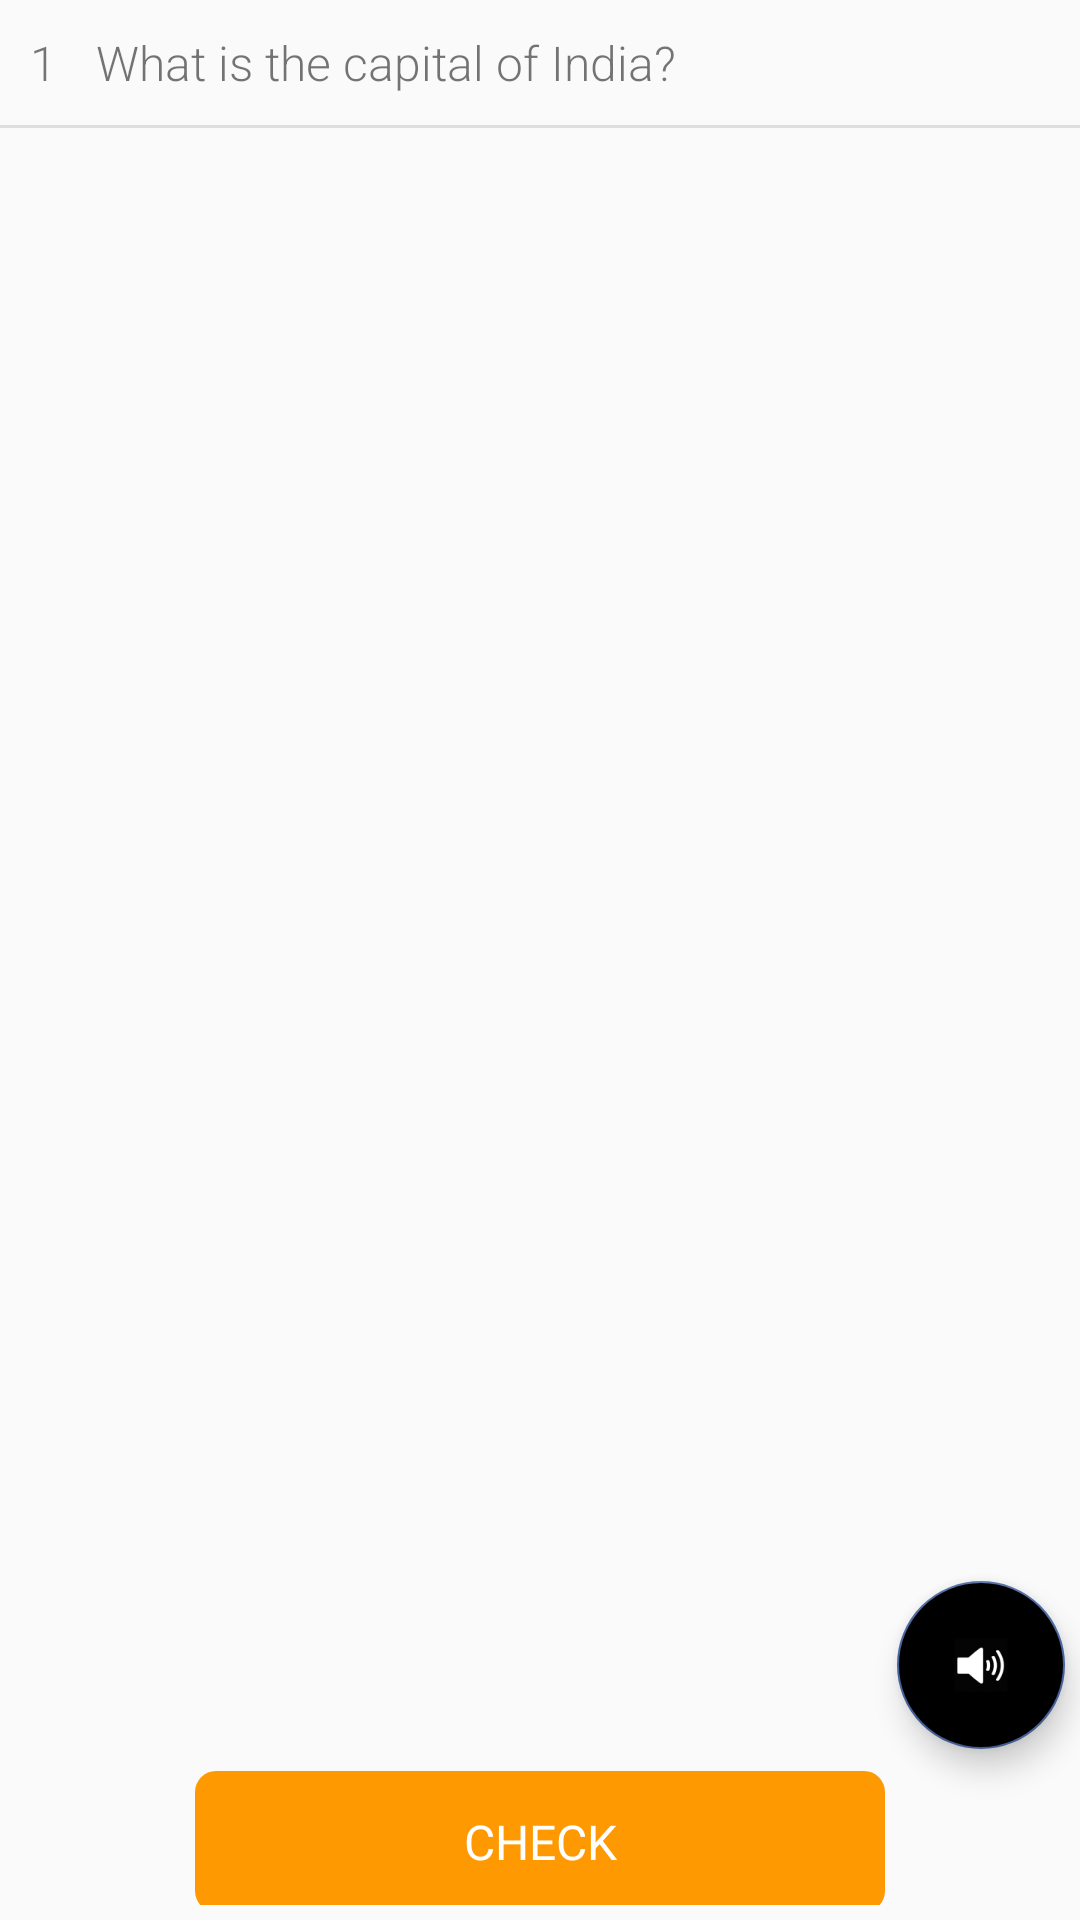

Named icons in this screenshot (1080w x 1920h) and their bounding boxes, (x1=x1, y1=y1, x2=x2, y2=y2):
speaker: (x1=897, y1=1581, x2=1065, y2=1749)
